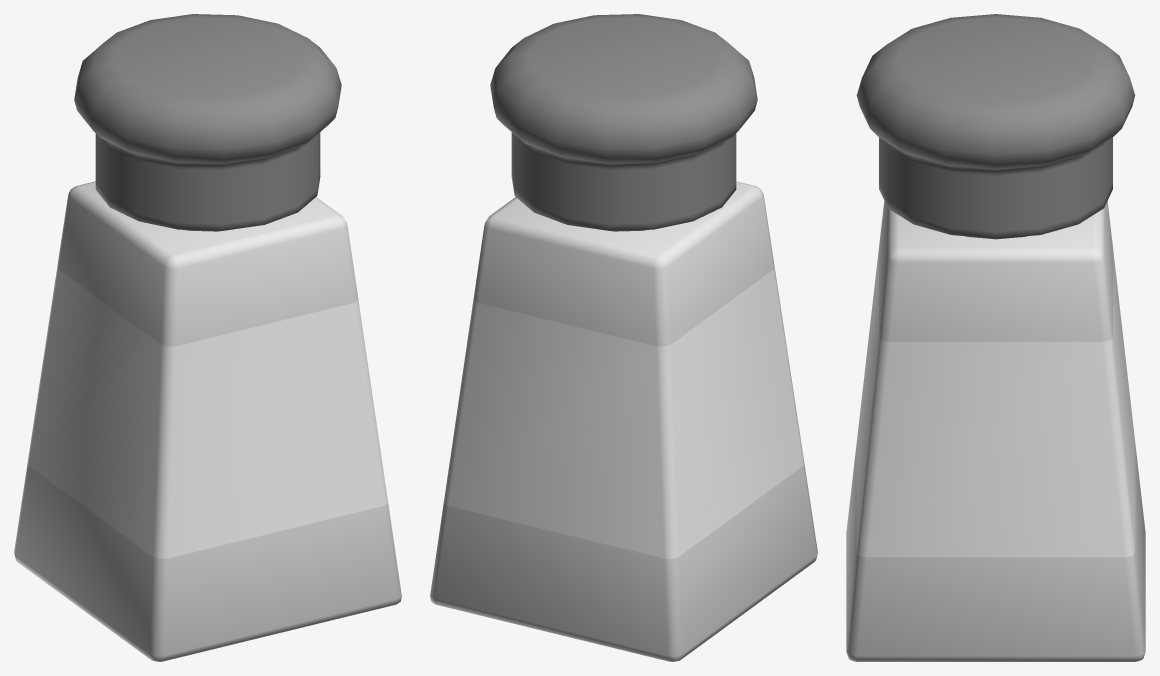
The model's file is Salt.fbx.
3 renders of one model, left to right at view 1: azimuth 30°, elevation 25°; view 2: azimuth 150°, elevation 25°; view 3: azimuth 270°, elevation 25°, orthographic. The views are drawn at different scales.
Parts seen in each view (by area): view 1: Salt; view 2: Salt; view 3: Salt.
Boxes of the visible parts, bbox=[...] form: Salt: bbox=[14, 14, 401, 661]; Salt: bbox=[430, 14, 817, 661]; Salt: bbox=[846, 14, 1145, 661].
Size of the model in its own units: 5.52 by 11.04 by 5.52.
